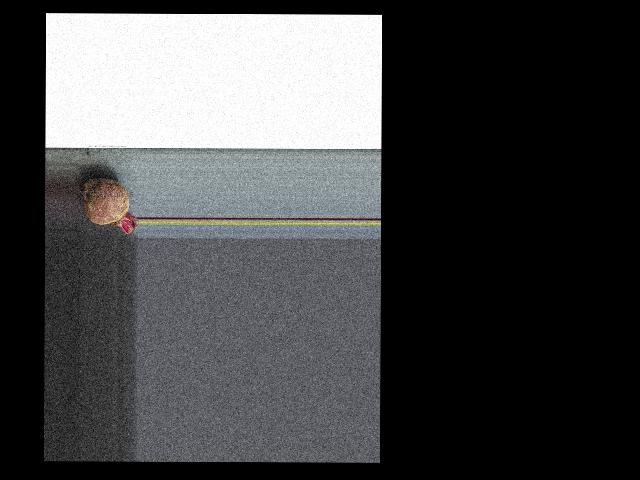beet: (81, 178, 137, 233)
